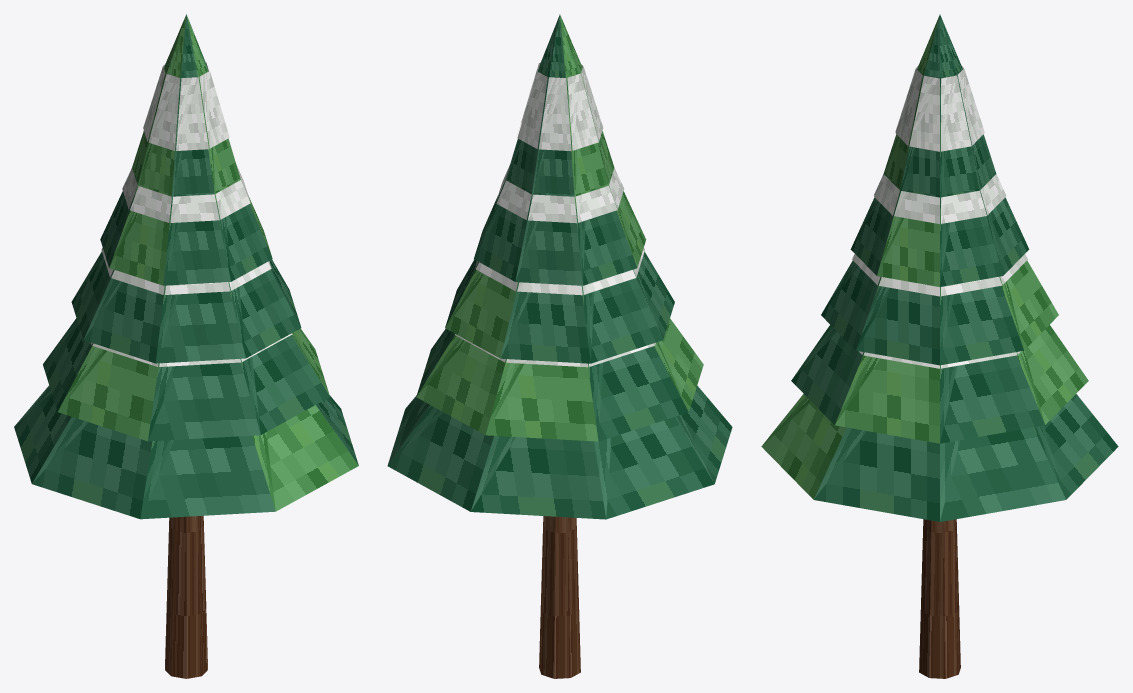
Rendered from 06_pino_nevado.glb.
3 views of the same model, side by side, from view 1: azimuth 30°, elevation 25°; view 2: azimuth 150°, elevation 25°; view 3: azimuth 270°, elevation 25° (orthographic).
Parts seen in each view (by area): view 1: world; view 2: world; view 3: world.
Part boxes in pixels (x1,y1,x2,y2): world: (14, 14, 358, 678); world: (387, 14, 732, 678); world: (761, 14, 1118, 678).
Bounding box in the file's own units: 22.7 × 46 × 22.7.
1 material, 1 textured.
